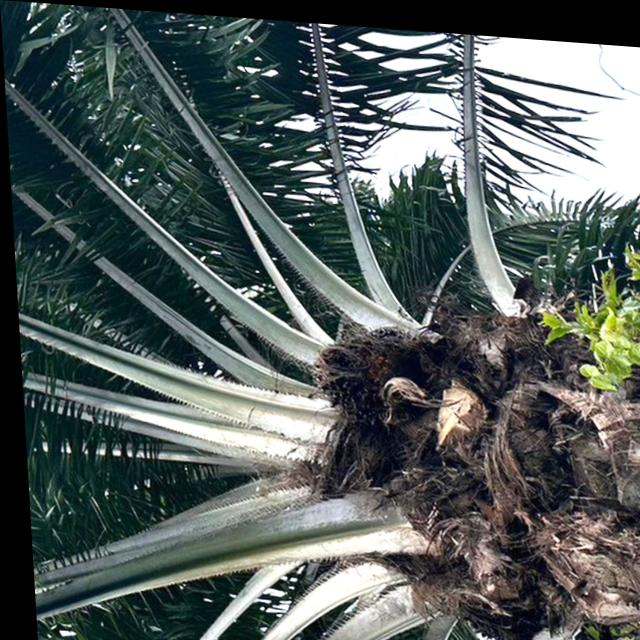almost: (289, 309, 404, 419)
